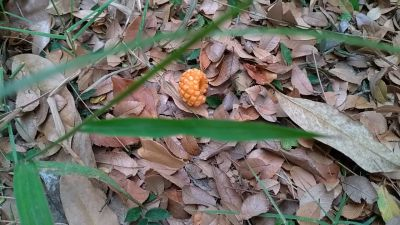eggs: (176, 65, 209, 107)
